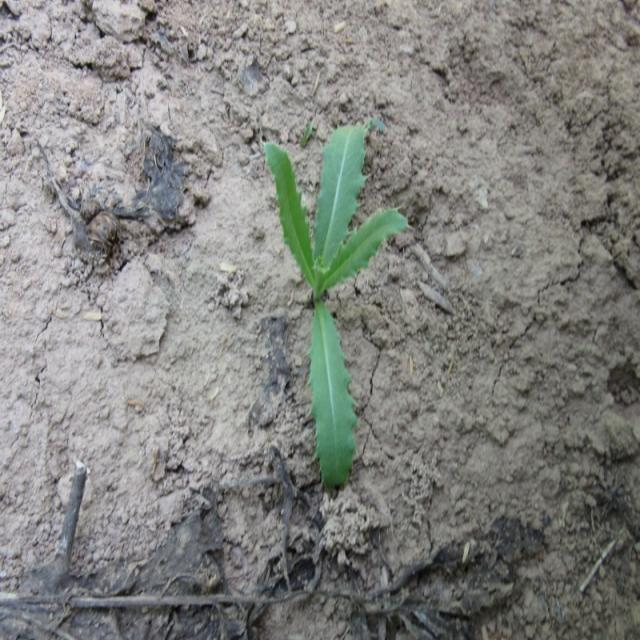field_thistle: (257, 112, 418, 551)
